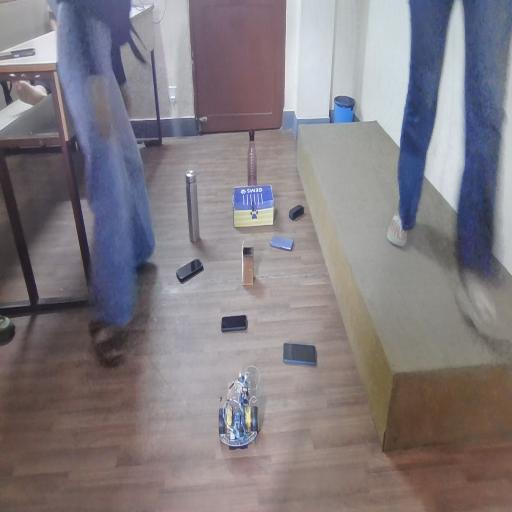Bottle: (240, 128, 269, 193)
car: (213, 358, 279, 480)
